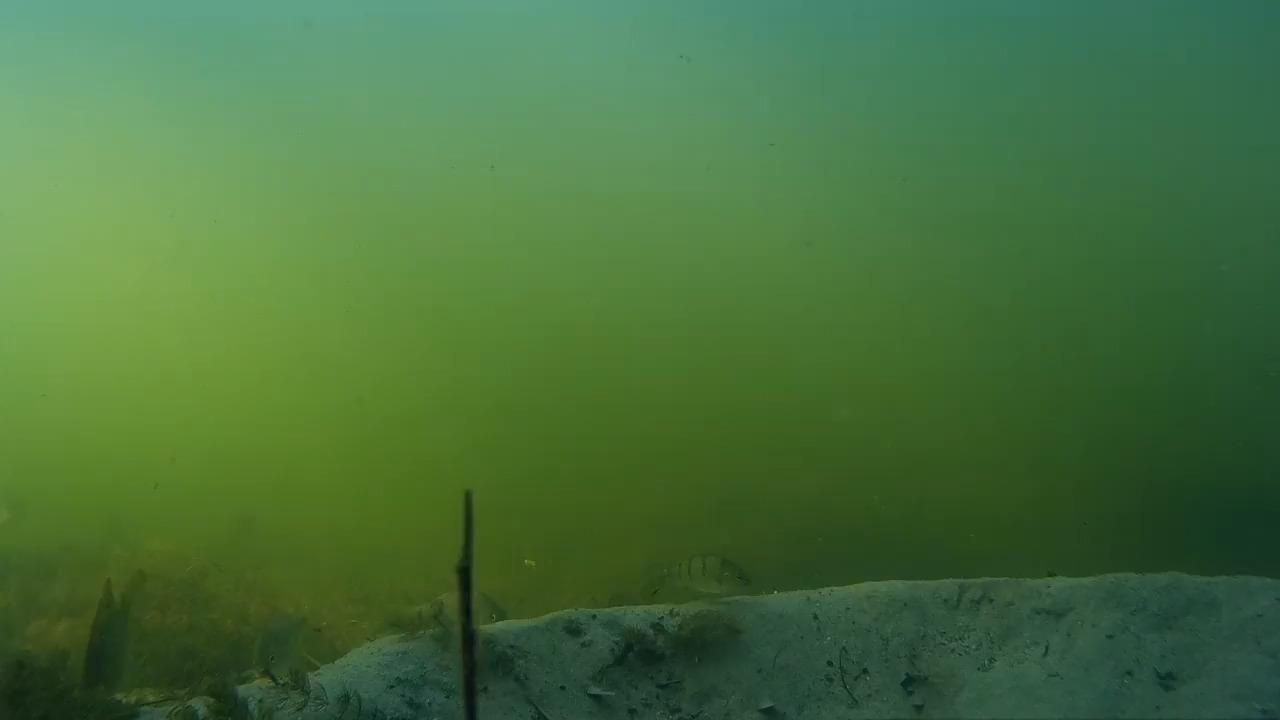Tilapia: (65, 548, 171, 720), (645, 530, 758, 600), (247, 606, 330, 690)
